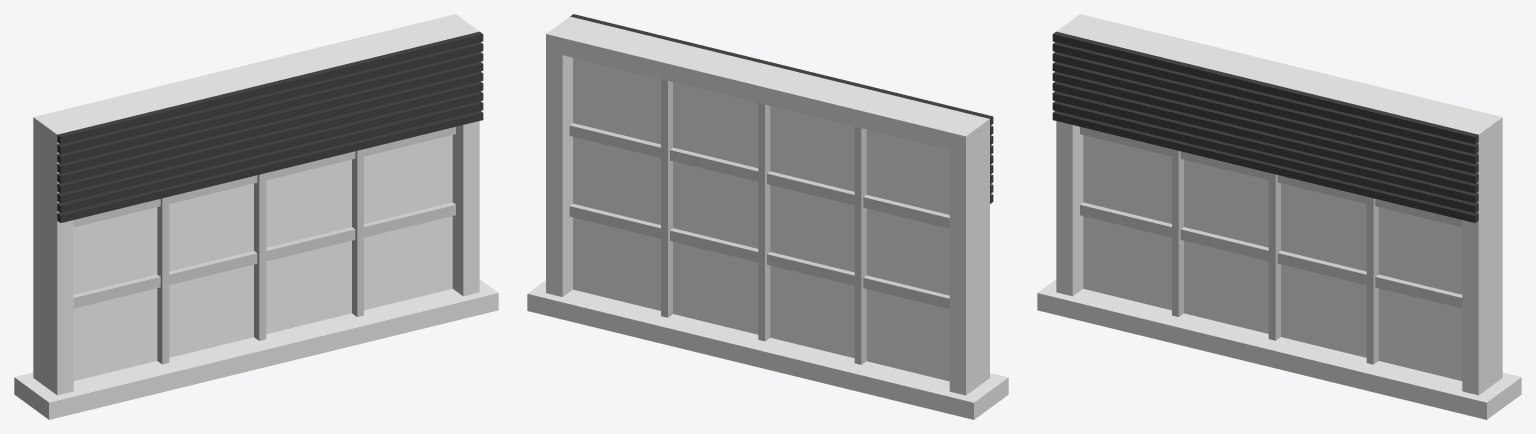
Rendered from window_005.fbx.
3 views of the same model, side by side, from view 1: azimuth 30°, elevation 25°; view 2: azimuth 150°, elevation 25°; view 3: azimuth 330°, elevation 25° (orthographic).
Visible parts, largest first — view 1: window_005; view 2: window_005; view 3: window_005.
Boxes of the visible parts, x1,y1,x2,y2 form: window_005: [14, 14, 498, 419]; window_005: [527, 14, 1008, 419]; window_005: [1037, 14, 1521, 419].
Bounding box in the file's own units: 318 × 42.75 × 188.
